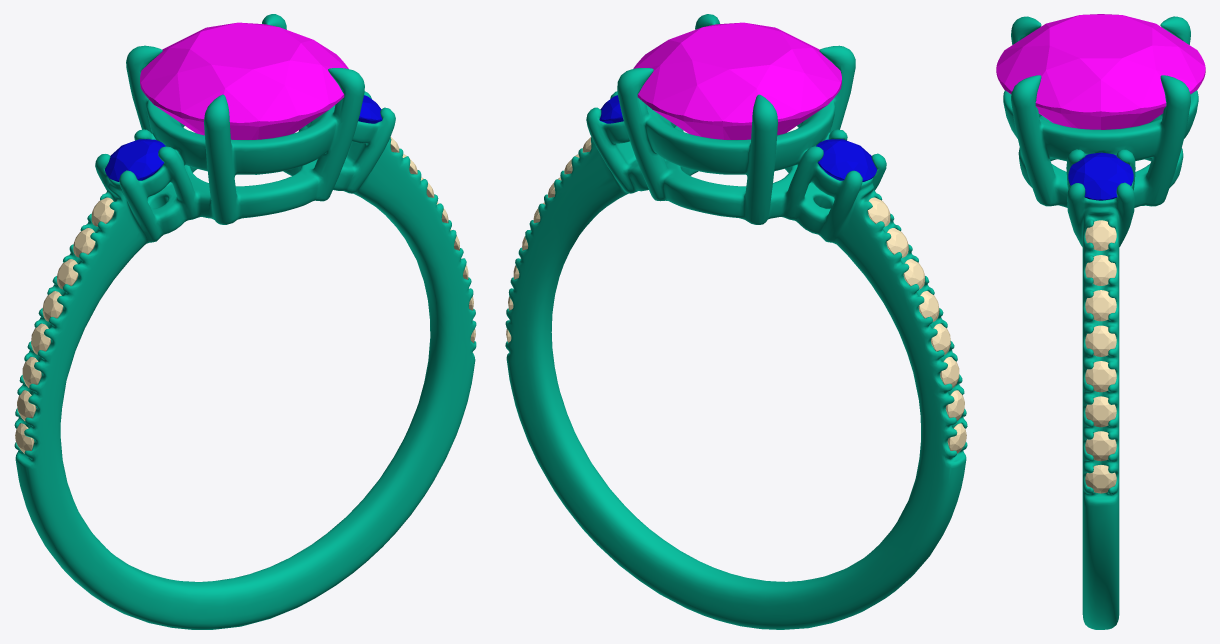
File: BE1D1602_RD_200ct_RENDER.glb
The picture shows the model from 3 angles, left to right: view 1: azimuth 30°, elevation 25°; view 2: azimuth 150°, elevation 25°; view 3: azimuth 270°, elevation 25°; orthographic projection.
Parts seen in each view (by area): view 1: Metal 01, CS_Diamond_Round, Diamond_Round_side.001; view 2: Metal 01, CS_Diamond_Round, Diamond_Round_side.001; view 3: Metal 01, CS_Diamond_Round, Diamond_Round_side, Diamond_Round_Gem_SH.005, Diamond_Round_Gem_SH.004, Diamond_Round_Gem_SH.003, Diamond_Round_Gem_SH.002, Diamond_Round_Gem_SH.006, Diamond_Round_Gem_SH.007, Diamond_Round_Gem_SH.001, Diamond_Round_Gem_SH.
Part boxes in pixels (left/top/right/bottom): Metal 01: left=14, top=14, right=476, bottom=629; CS_Diamond_Round: left=140, top=22, right=348, bottom=139; Diamond_Round_side.001: left=105, top=139, right=165, bottom=181; Metal 01: left=505, top=14, right=967, bottom=629; CS_Diamond_Round: left=633, top=22, right=841, bottom=139; Diamond_Round_side.001: left=816, top=139, right=876, bottom=181; Metal 01: left=1003, top=16, right=1198, bottom=629; CS_Diamond_Round: left=996, top=14, right=1205, bottom=129; Diamond_Round_side: left=1068, top=152, right=1133, bottom=200; Diamond_Round_Gem_SH.005: left=1085, top=290, right=1116, bottom=321; Diamond_Round_Gem_SH.004: left=1085, top=325, right=1116, bottom=356; Diamond_Round_Gem_SH.003: left=1085, top=361, right=1116, bottom=392; Diamond_Round_Gem_SH.002: left=1085, top=396, right=1116, bottom=427; Diamond_Round_Gem_SH.006: left=1085, top=255, right=1116, bottom=285; Diamond_Round_Gem_SH.007: left=1085, top=220, right=1116, bottom=250; Diamond_Round_Gem_SH.001: left=1085, top=431, right=1116, bottom=461; Diamond_Round_Gem_SH: left=1085, top=465, right=1116, bottom=493.
Bounding box in the file's own units: 19.78 × 24.08 × 8.
